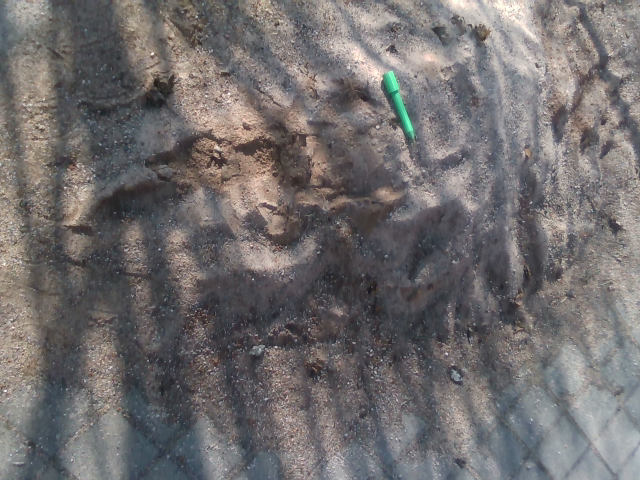Probe: (379, 68, 421, 148)
